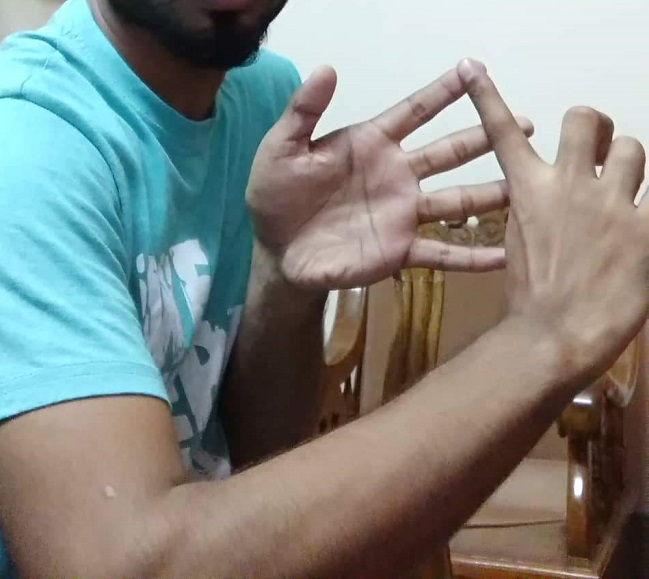o: (308, 60, 640, 281)
